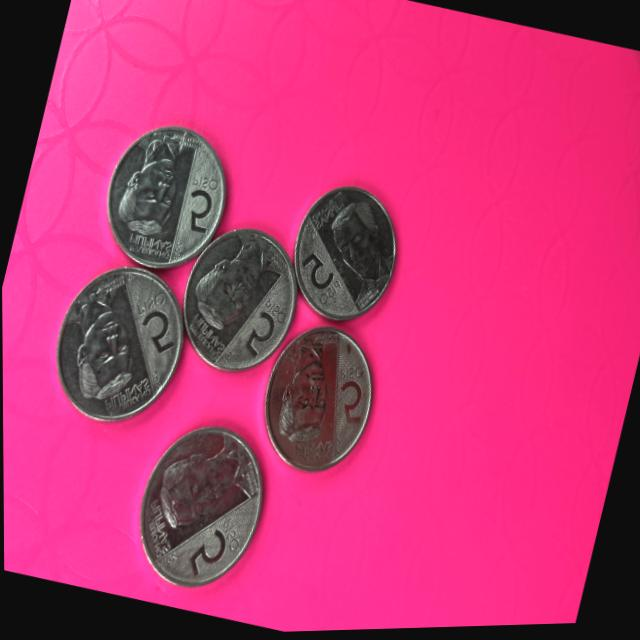5_New_Front: (115, 278, 192, 364), (170, 156, 230, 243), (186, 510, 247, 587), (233, 281, 288, 364), (291, 241, 353, 314), (321, 356, 380, 431)
